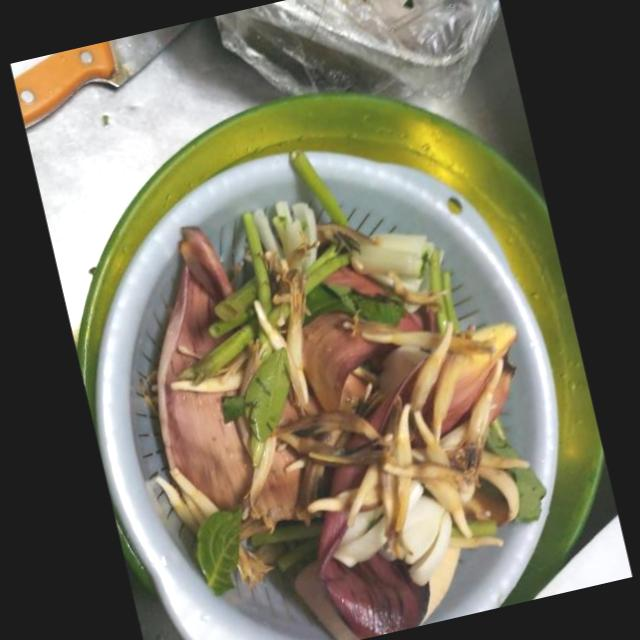vo_rau_cu: (309, 321, 529, 639), (289, 150, 460, 411), (170, 209, 309, 510), (158, 224, 252, 510), (197, 438, 324, 595)
